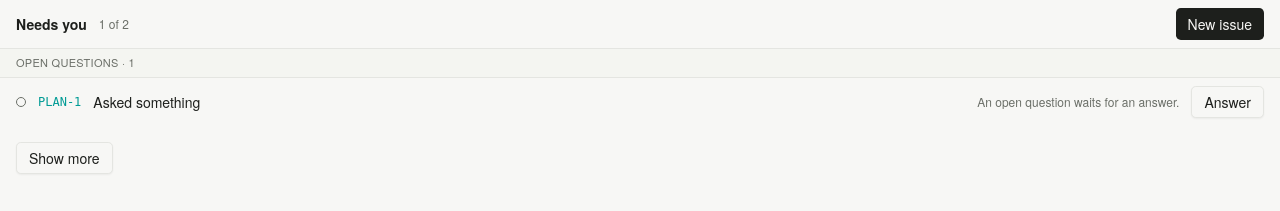
Test case: appends the next page and counts what is shown against the total
expect the text "1 of 2" is shown: met, box x1=99 y1=16 x2=129 y2=32
Click the button "Show more" at {"x": 64, "y": 158}, box x1=16 y1=142 x2=112 y2=174
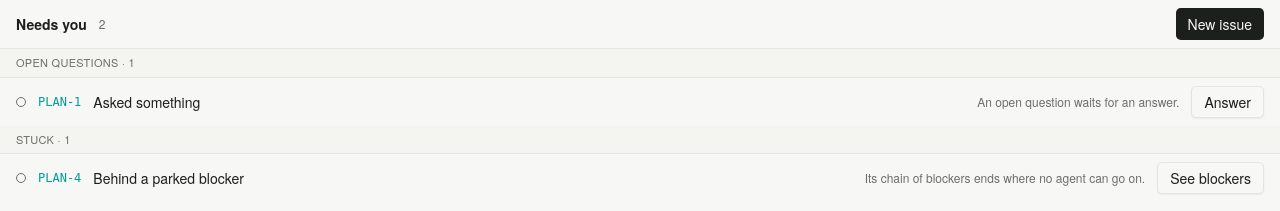
expect the text "Asked something" is shown: met, box x1=93 y1=92 x2=200 y2=112
expect the text "Behind a parked blocker" is shown: met, box x1=93 y1=168 x2=244 y2=188
expect the button "Show more" is gone: met
